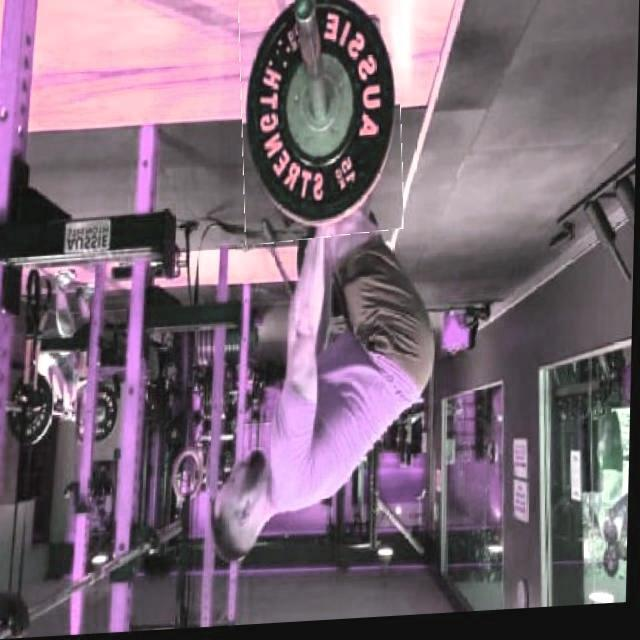barbell: (237, 1, 407, 247)
